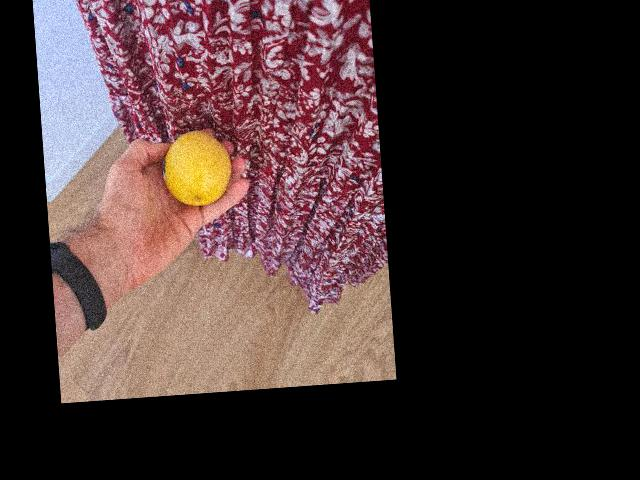lemon: (161, 129, 231, 207)
